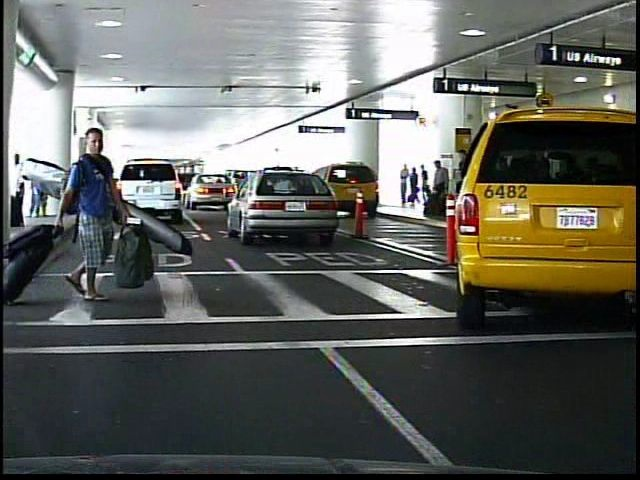person: (62, 118, 129, 319), (426, 161, 447, 218), (397, 164, 409, 208), (409, 166, 420, 210)
